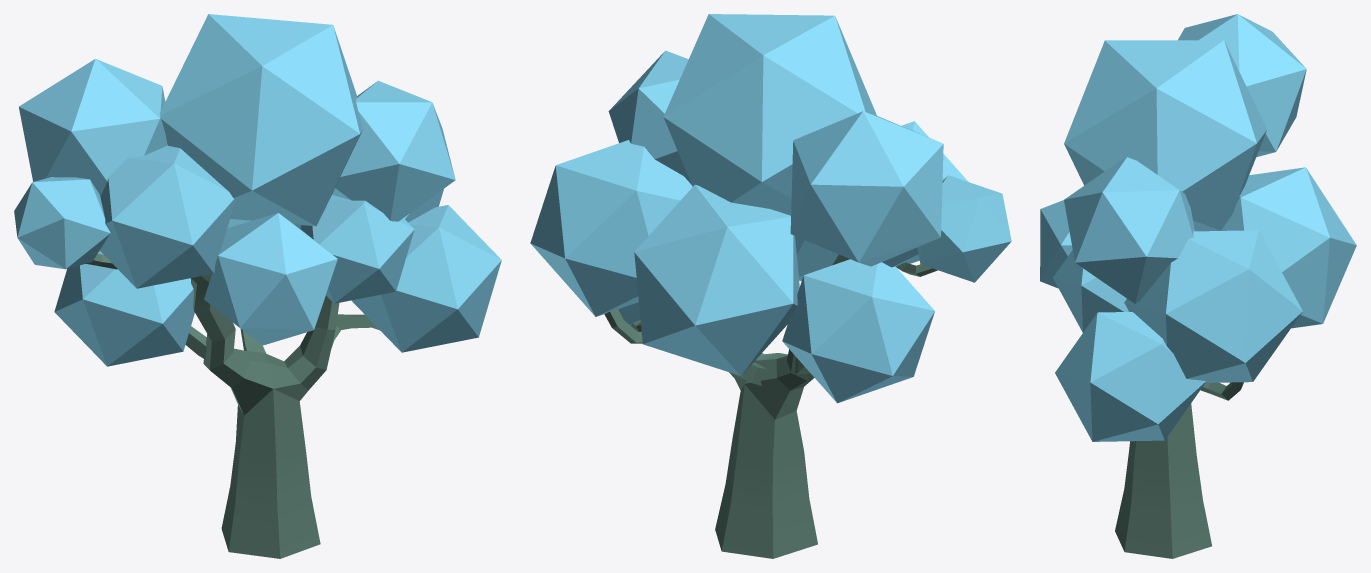
Rendered from Yggdrasil_grande.fbx.
3 views of the same model, side by side, from view 1: azimuth 30°, elevation 25°; view 2: azimuth 150°, elevation 25°; view 3: azimuth 270°, elevation 25° (orthographic). The views are drawn at different scales.
Parts seen in each view (by area): view 1: Hojas_combine, Tronco_combine; view 2: Hojas_combine, Tronco_combine; view 3: Hojas_combine, Tronco_combine.
Part boxes in pixels (box(x1,y1,x2,y2)): Hojas_combine: box(14, 14, 501, 366); Tronco_combine: box(86, 254, 379, 558); Hojas_combine: box(530, 14, 1011, 403); Tronco_combine: box(604, 254, 937, 558); Hojas_combine: box(1040, 14, 1356, 441); Tronco_combine: box(1115, 382, 1243, 558).
Bounding box in the file's own units: 810 × 875 × 519.
